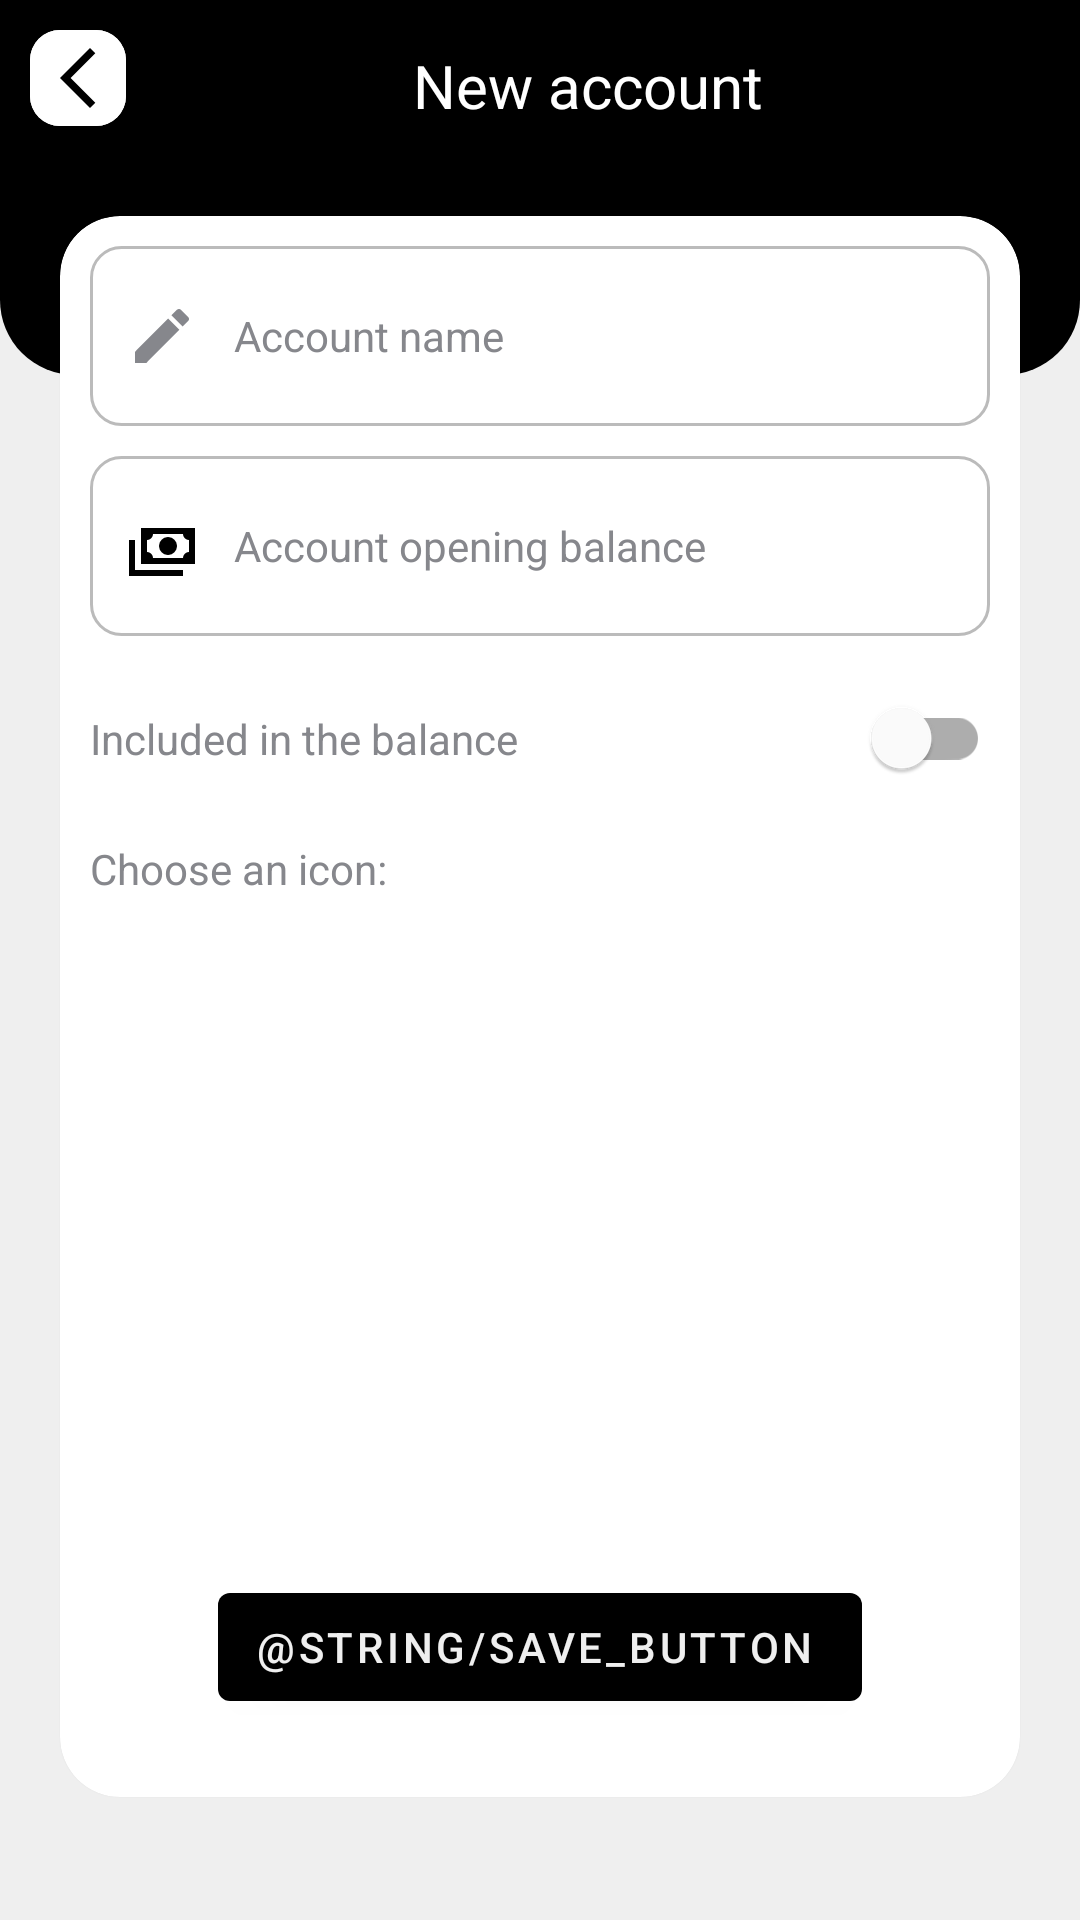

Where icons sit on this 1080px x 1920px app screen, as (x1, y1, x2, y2):
arrow back: (30, 30, 126, 126)
